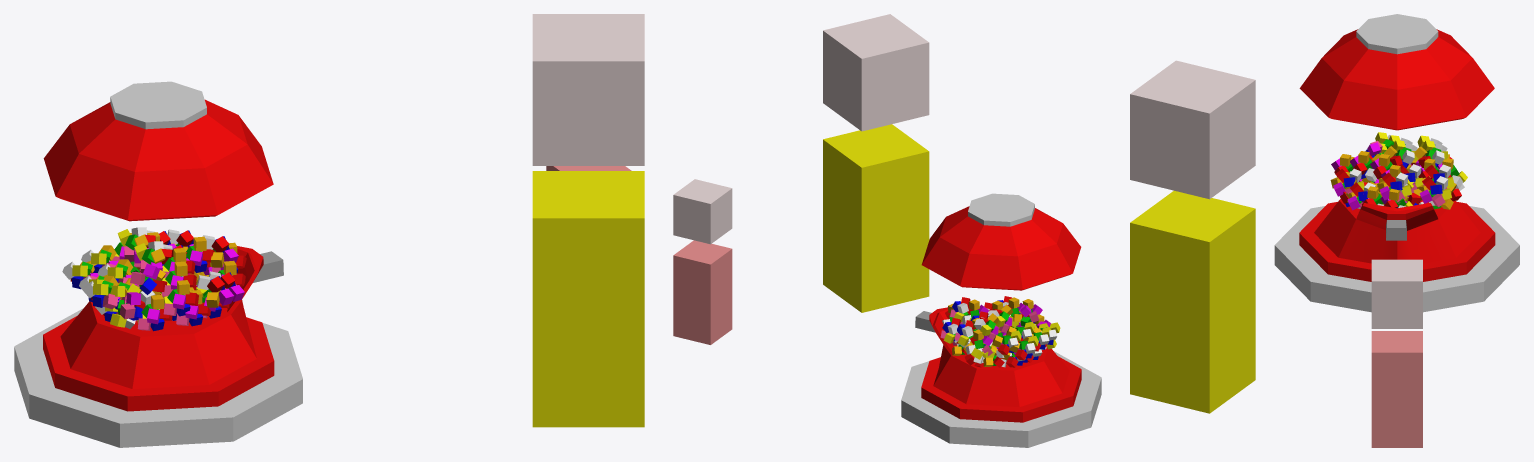
The model's file is GumBallMachine.fbx.
The picture shows the model from 3 angles, left to right: view 1: azimuth 30°, elevation 25°; view 2: azimuth 150°, elevation 25°; view 3: azimuth 270°, elevation 25°; orthographic projection. The views are drawn at different scales.
Visible parts, largest first — view 1: GumBallMachine, GumballMum; view 2: GumBallMachine, GumballMum, GumBallKid; view 3: GumBallMachine, GumballMum, GumBallKid.
Part boxes in pixels (box(x1,y1,x2,y2)): GumBallMachine: box(14, 81, 302, 447); GumballMum: box(532, 14, 644, 427); GumBallMachine: box(901, 193, 1101, 447); GumballMum: box(823, 14, 929, 312); GumBallKid: box(673, 179, 732, 344); GumBallMachine: box(1274, 14, 1519, 312); GumballMum: box(1130, 60, 1255, 413); GumBallKid: box(1371, 259, 1422, 447).
Size of the model in its own units: 272 by 162 by 191.
